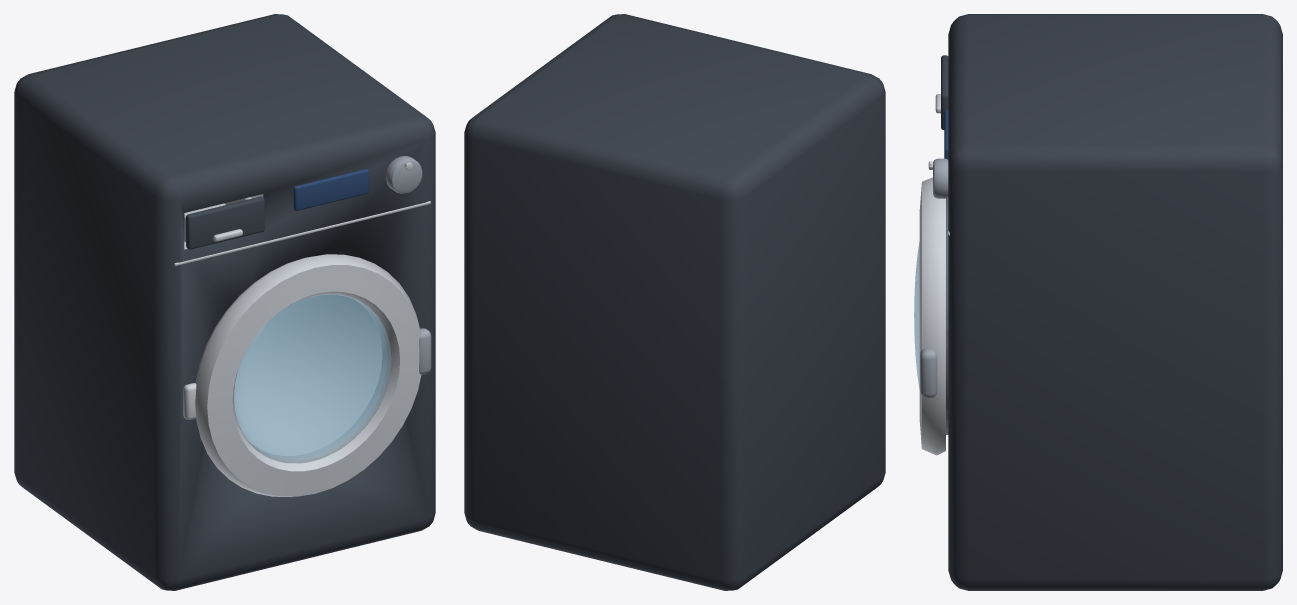
The model's file is maquina_lavar_grafite.glb.
3 renders of one model, left to right at view 1: azimuth 30°, elevation 25°; view 2: azimuth 150°, elevation 25°; view 3: azimuth 270°, elevation 25°, orthographic. The views are drawn at different scales.
Visible parts, largest first — view 1: maquina_lavar_grafite, porta_maquina, gaveta_1; view 2: maquina_lavar_grafite; view 3: maquina_lavar_grafite, porta_maquina, gaveta_1.
Part boxes in pixels (bbox=[...]): maquina_lavar_grafite: bbox=[14, 14, 435, 590]; porta_maquina: bbox=[195, 254, 431, 496]; gaveta_1: bbox=[184, 196, 264, 249]; maquina_lavar_grafite: bbox=[464, 14, 885, 590]; maquina_lavar_grafite: bbox=[928, 14, 1282, 590]; porta_maquina: bbox=[914, 177, 945, 455]; gaveta_1: bbox=[935, 55, 948, 129].
Size of the model in its own units: 0.6 by 0.85 by 0.6395.
2 materials, 1 textured.
